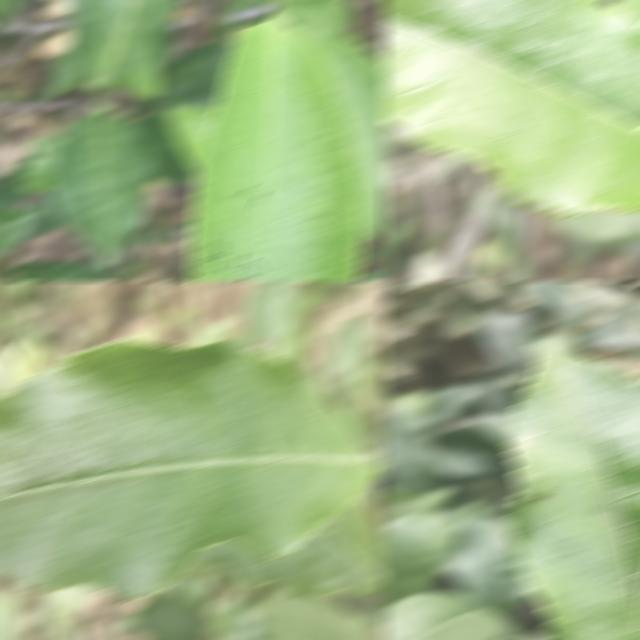Leaf: (0, 342, 378, 596), (381, 1, 640, 213), (188, 14, 364, 280), (505, 344, 640, 639), (189, 498, 387, 595), (297, 29, 387, 240), (49, 111, 153, 266), (442, 503, 532, 613), (83, 1, 182, 83), (381, 512, 459, 605), (255, 589, 377, 639), (381, 592, 506, 639), (244, 282, 307, 368), (477, 312, 539, 377), (381, 426, 441, 491), (325, 318, 372, 398), (128, 592, 207, 639), (214, 597, 268, 639), (425, 385, 484, 421), (14, 262, 117, 280), (579, 319, 640, 348), (435, 448, 498, 476)
